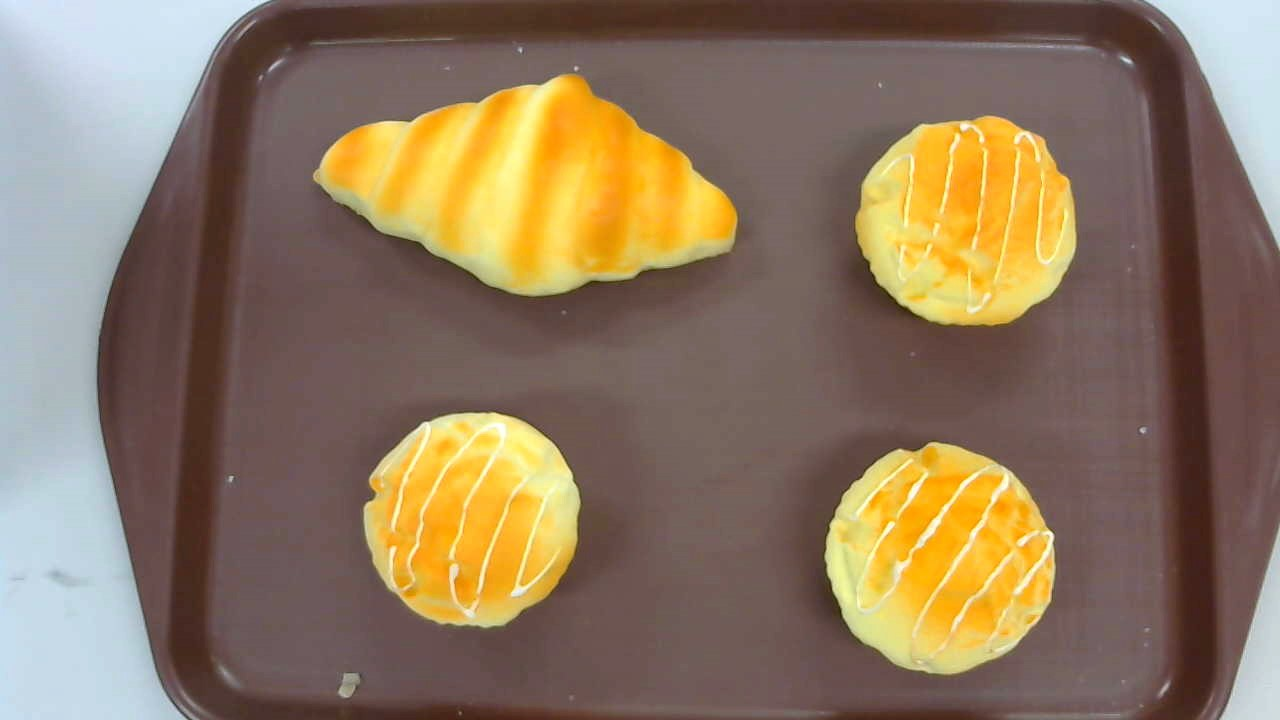croissant: (312, 71, 737, 297)
cupcake: (825, 441, 1056, 675), (362, 411, 583, 628), (856, 114, 1078, 328)
